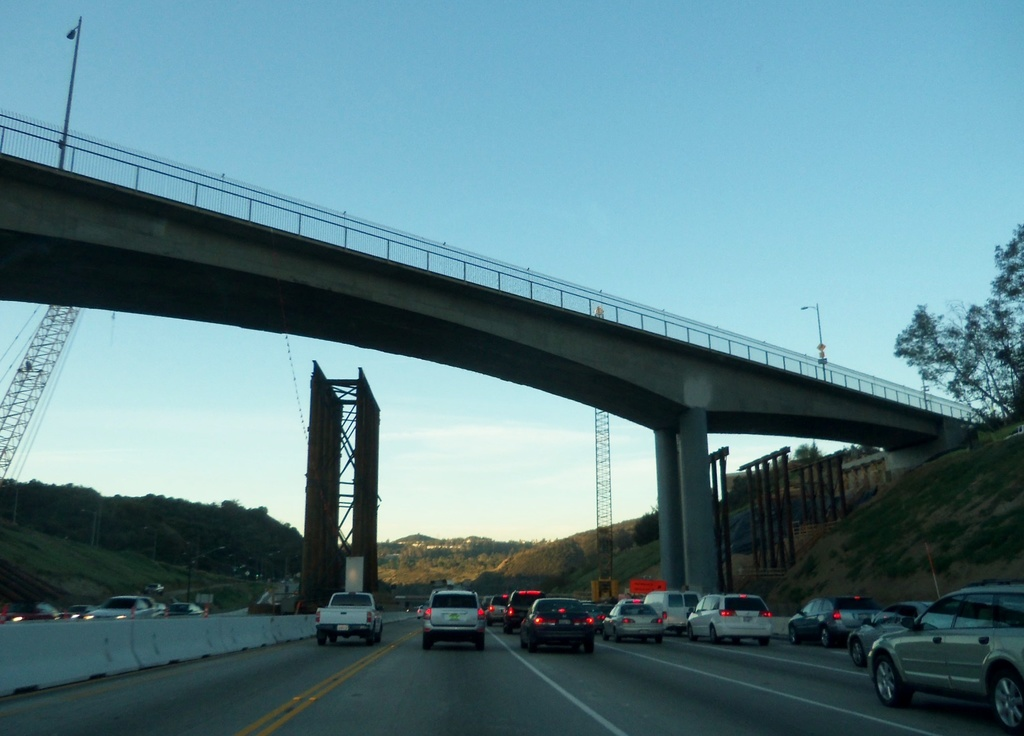Tree: (0, 478, 302, 584), (891, 222, 1024, 433)
